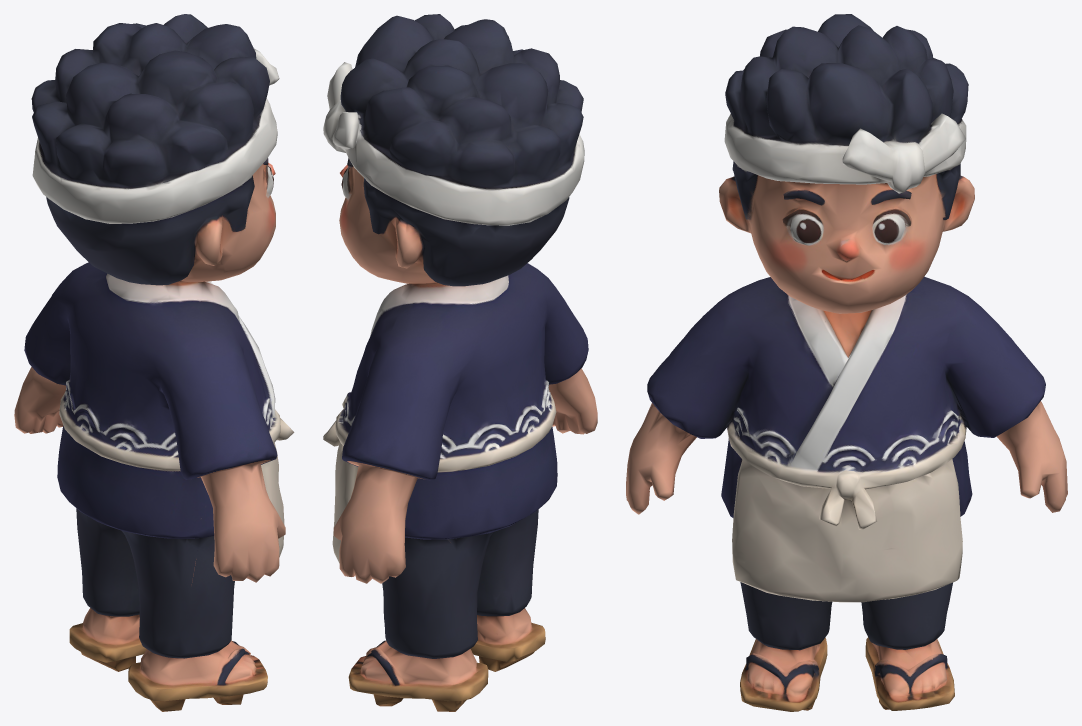
File: s2_staff_cashier.glb
3 renders of one model, left to right at view 1: azimuth 30°, elevation 25°; view 2: azimuth 150°, elevation 25°; view 3: azimuth 270°, elevation 25°, orthographic. The views are drawn at different scales.
Parts seen in each view (by area): view 1: tripo_node_6d3095cc-160d-468a-97c6-b2b41df105a2; view 2: tripo_node_6d3095cc-160d-468a-97c6-b2b41df105a2; view 3: tripo_node_6d3095cc-160d-468a-97c6-b2b41df105a2.
Boxes of the visible parts, left/top/right/bottom form: tripo_node_6d3095cc-160d-468a-97c6-b2b41df105a2: left=14, top=14, right=294, bottom=711; tripo_node_6d3095cc-160d-468a-97c6-b2b41df105a2: left=323, top=14, right=597, bottom=711; tripo_node_6d3095cc-160d-468a-97c6-b2b41df105a2: left=626, top=14, right=1067, bottom=711.
Size of the model in its own units: 0.3818 by 1 by 0.6079.
1 material, 1 textured.
